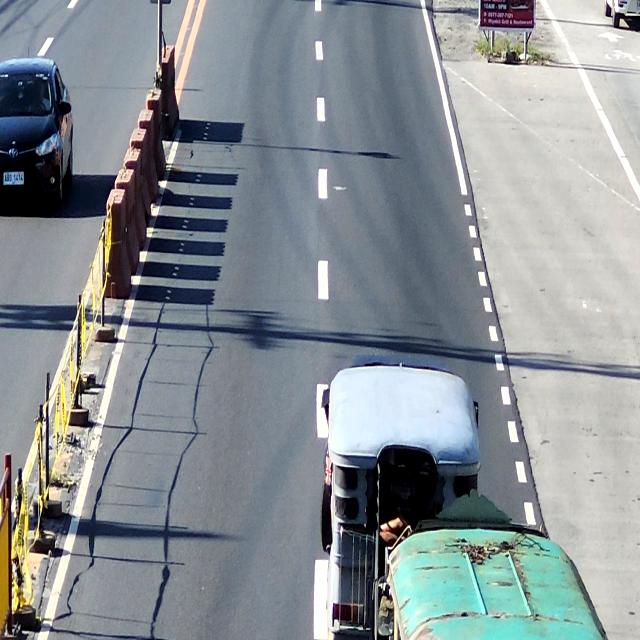Jeep: (312, 356, 480, 640), (377, 515, 602, 640)
